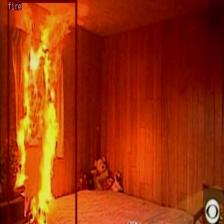fire: (7, 0, 76, 224)
